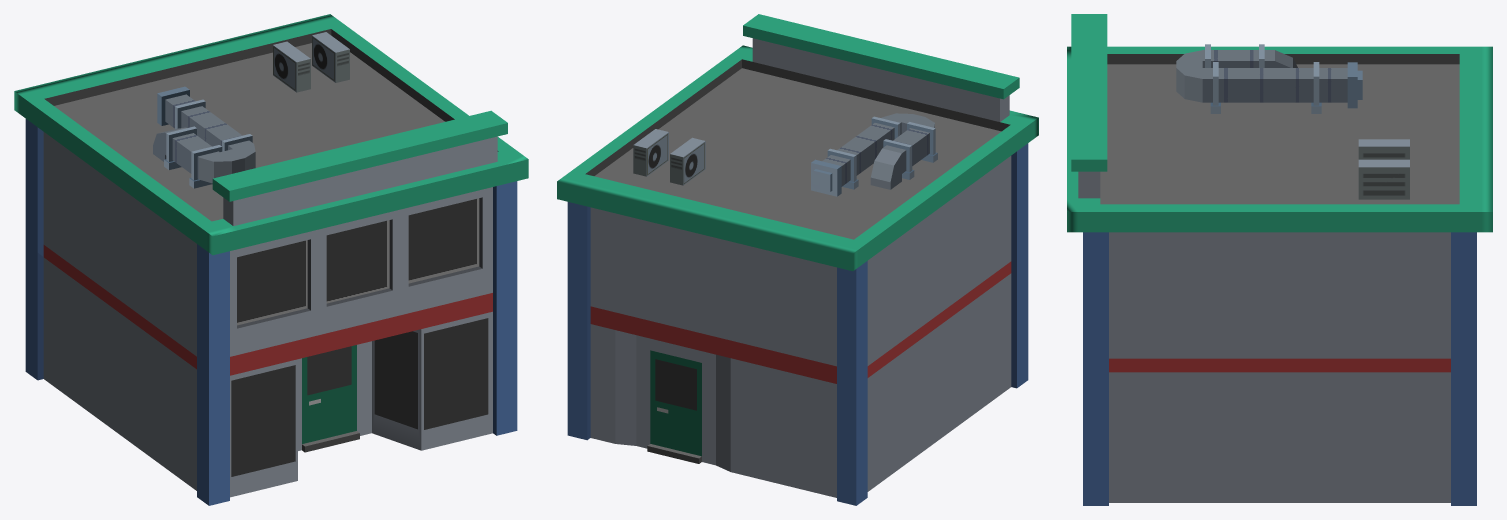
File: shop3.obj
3 renders of one model, left to right at view 1: azimuth 30°, elevation 25°; view 2: azimuth 150°, elevation 25°; view 3: azimuth 270°, elevation 25°, orthographic. The views are drawn at different scales.
Visible parts, largest first — view 1: ST_Building_Shop_03_Untitled; view 2: ST_Building_Shop_03_Untitled; view 3: ST_Building_Shop_03_Untitled.
Boxes of the visible parts, x1,y1,x2,y2 form: ST_Building_Shop_03_Untitled: (14, 14, 528, 505); ST_Building_Shop_03_Untitled: (557, 14, 1038, 505); ST_Building_Shop_03_Untitled: (1067, 14, 1492, 505).
Size of the model in its own units: 10.92 by 10.41 by 11.88.
